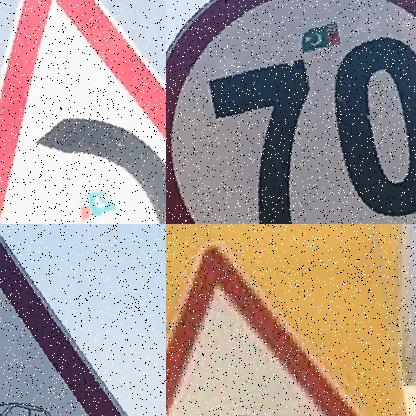Speed Breaker Ahead: (166, 224, 410, 416)
Speed Limit -70 kmph-: (166, 0, 416, 224)
Steep Descent: (0, 236, 128, 416)
